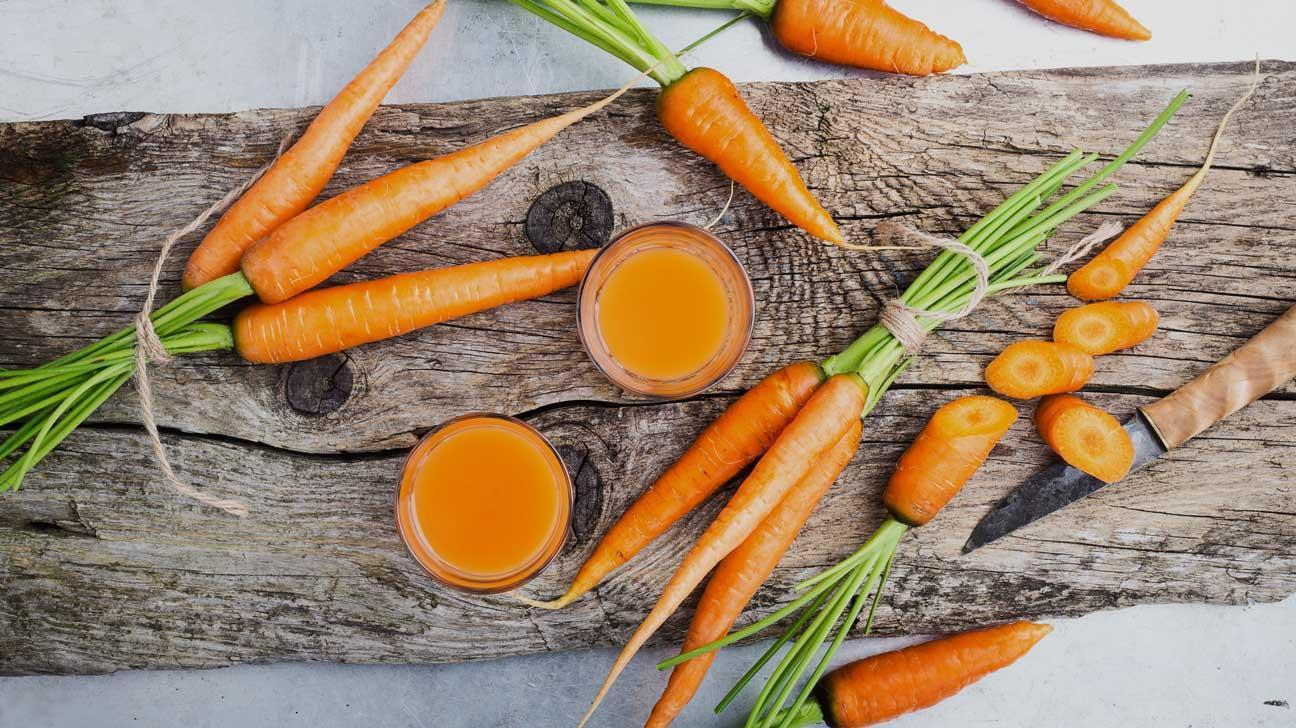carrot: (182, 1, 585, 391), (573, 371, 918, 716), (866, 394, 1047, 728), (639, 42, 903, 253), (737, 0, 1145, 82)
